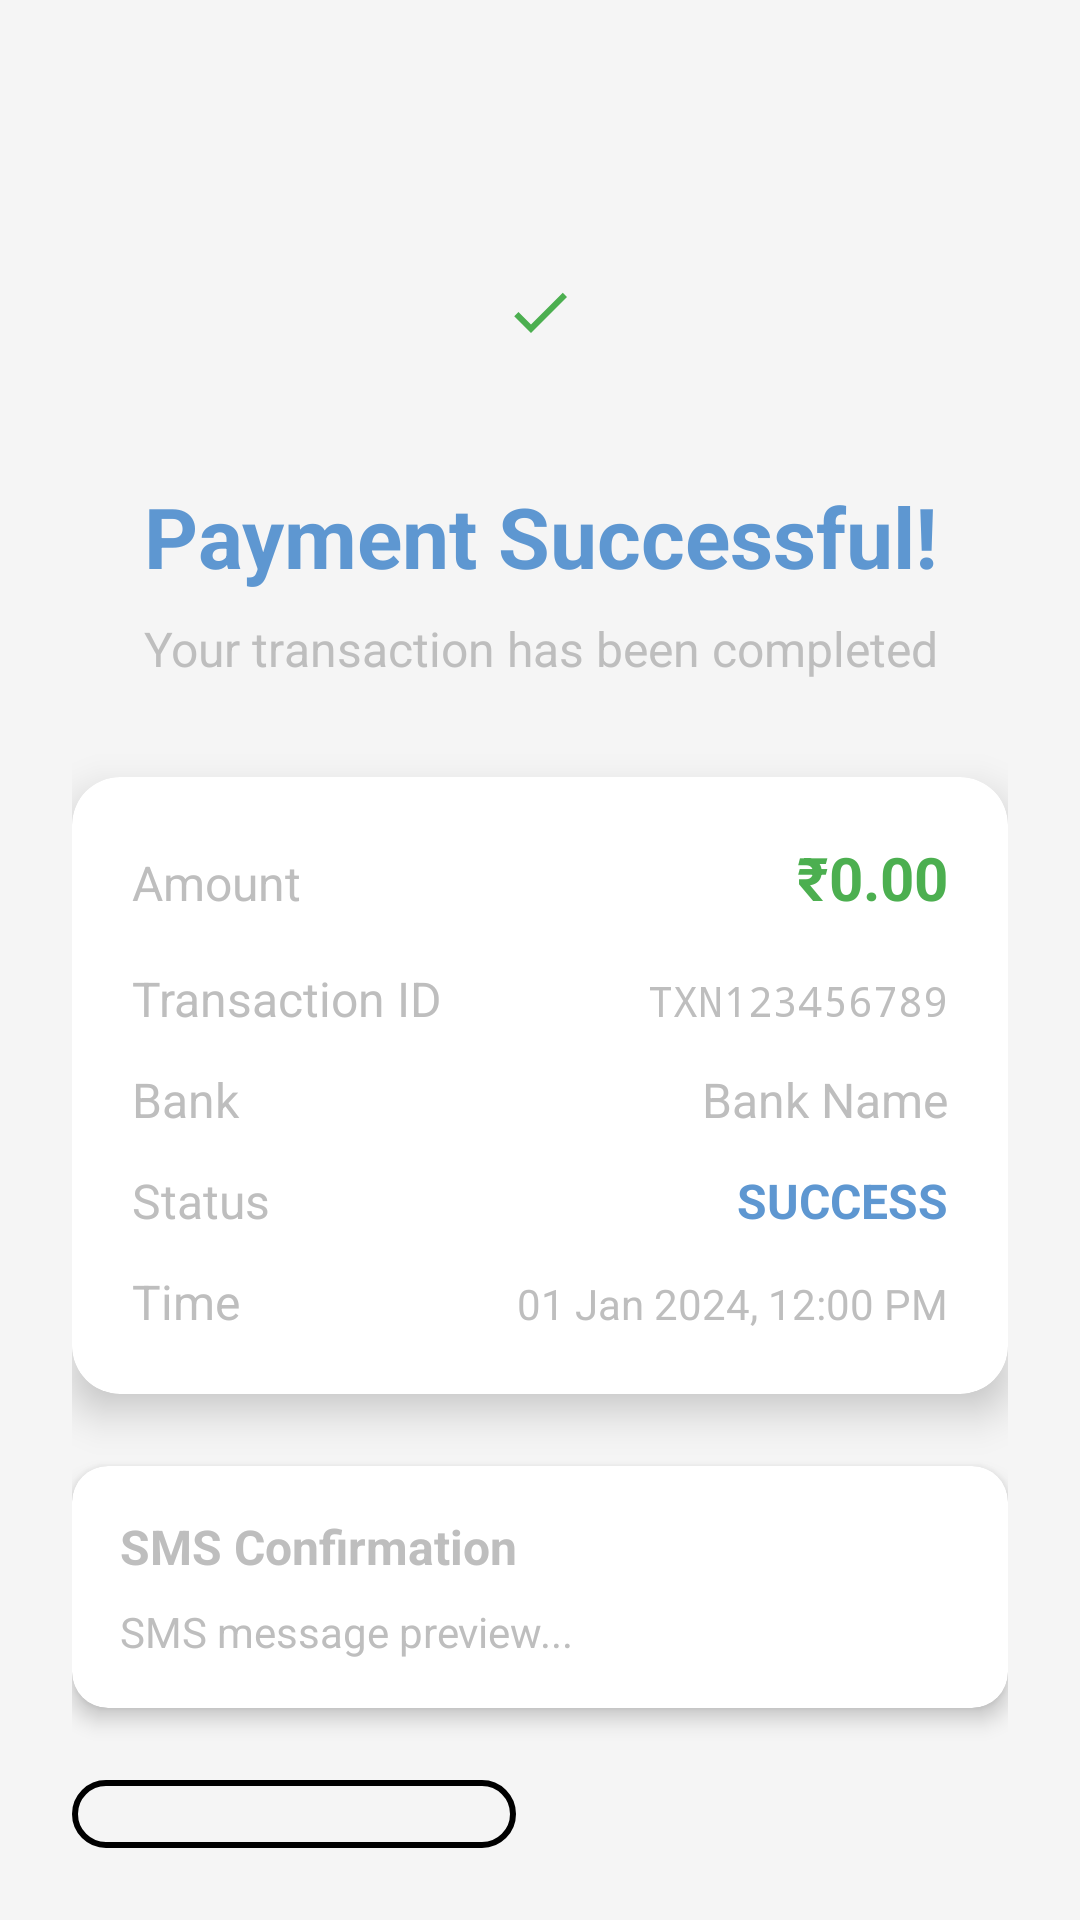

Icon click points for this 1080x1920 phone screenshot, format point (x, y):
success check: point (540, 313)
